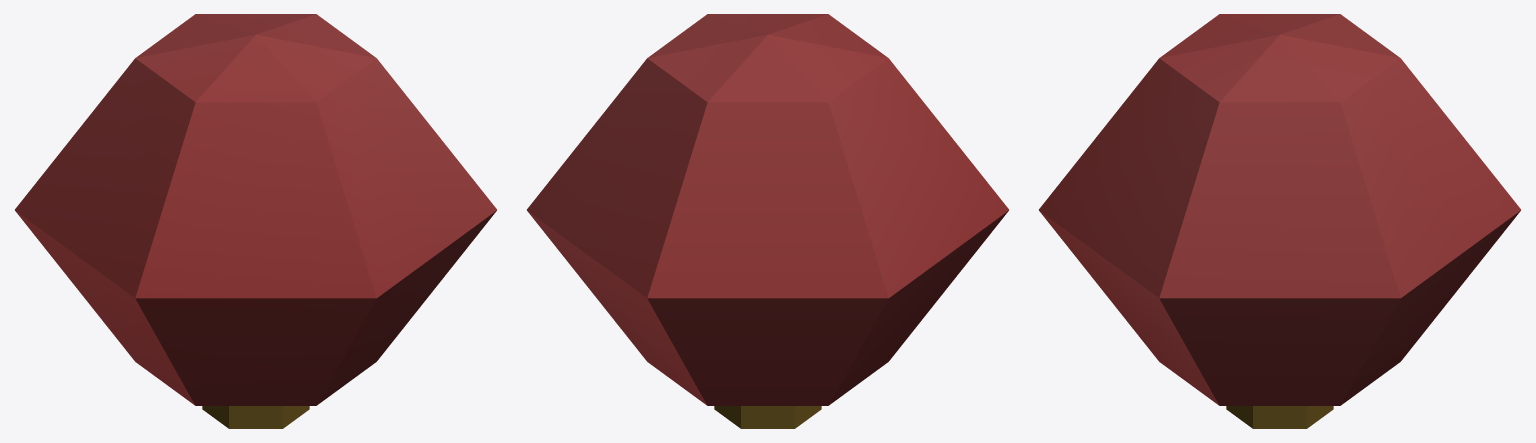
Rendered from Prop_DecorALOD1.fbx.
3 renders of one model, left to right at view 1: azimuth 30°, elevation 25°; view 2: azimuth 150°, elevation 25°; view 3: azimuth 270°, elevation 25°, orthographic.
Visible parts, largest first — view 1: Prop_DecorALOD1; view 2: Prop_DecorALOD1; view 3: Prop_DecorALOD1.
Part boxes in pixels (x1,y1,x2,y2): Prop_DecorALOD1: (15, 14, 496, 428); Prop_DecorALOD1: (527, 14, 1008, 428); Prop_DecorALOD1: (1039, 14, 1520, 428).
Size of the model in its own units: 96.77 by 95.62 by 112.
